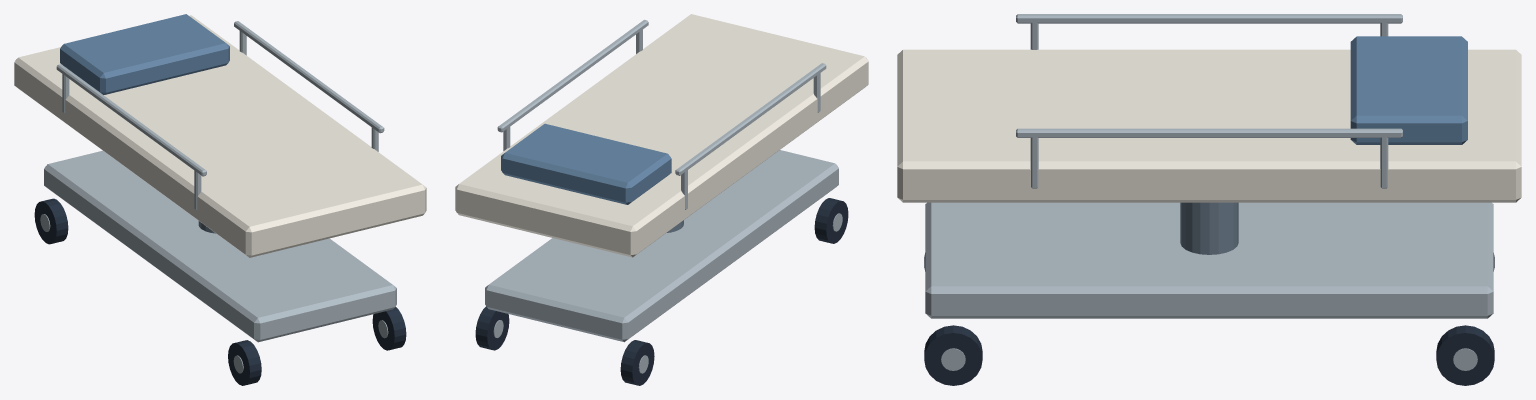
Rendered from medical_05.glb.
3 views of the same model, side by side, from view 1: azimuth 30°, elevation 25°; view 2: azimuth 150°, elevation 25°; view 3: azimuth 270°, elevation 25° (orthographic). The views are drawn at different scales.
Visible parts, largest first — view 1: Mattress, Chassis, Pillow, Wheel (×3), SafetyRail (×2); view 2: Mattress, Chassis, Pillow, Wheel (×3), SafetyRail (×2); view 3: Mattress, Chassis, Pillow, SafetyRail (×2), Wheel (×2), LiftColumn.
Boxes of the visible parts, bbox=[...] form: Mattress: bbox=[14, 15, 426, 257]; Chassis: bbox=[44, 150, 396, 342]; Pillow: bbox=[60, 14, 229, 94]; Wheel (×3): bbox=[34, 198, 406, 385]; SafetyRail (×2): bbox=[56, 21, 384, 176]; Mattress: bbox=[455, 14, 868, 257]; Chassis: bbox=[485, 150, 838, 342]; Pillow: bbox=[501, 123, 671, 204]; Wheel (×3): bbox=[475, 198, 848, 385]; SafetyRail (×2): bbox=[497, 19, 826, 175]; Mattress: bbox=[897, 49, 1521, 202]; Chassis: bbox=[925, 202, 1493, 318]; Pillow: bbox=[1350, 36, 1467, 144]; SafetyRail (×2): bbox=[1016, 14, 1402, 137]; Wheel (×2): bbox=[924, 325, 1494, 385]; LiftColumn: bbox=[1180, 202, 1238, 254].
Size of the model in its own units: 0.859 by 0.893 by 1.92.
